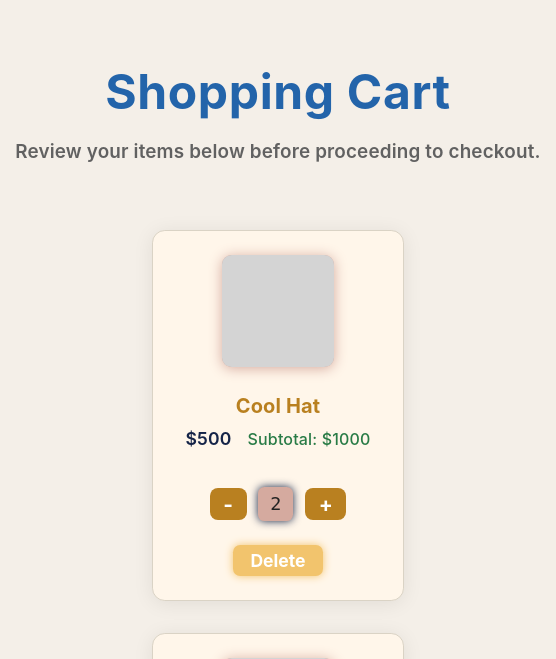
Test: Cart Page › updates item quantity, subtotal, and summary when increment button is clicked
Click the button "+" at (326, 504), box 305,488 -> 346,520
(page scrolled)
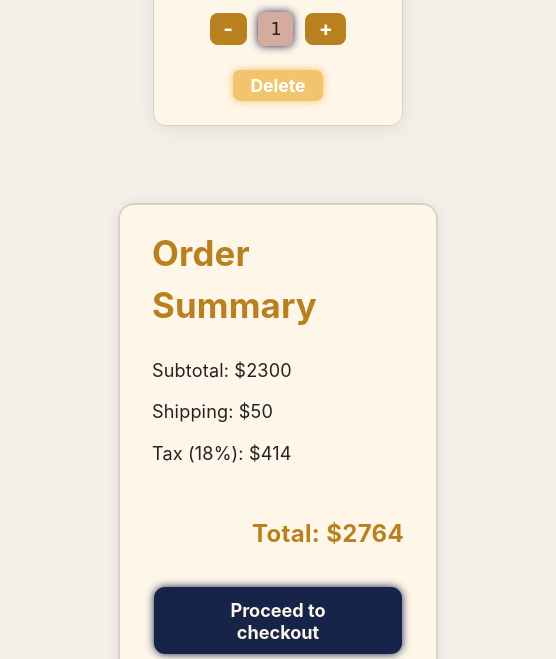
expect the text with test id "checkout-subtotal" reads "Subtotal: $2300": met, box 152,359 -> 292,381
expect the text with test id "order-total" reads "Total: $2764": met, box 252,519 -> 404,548
